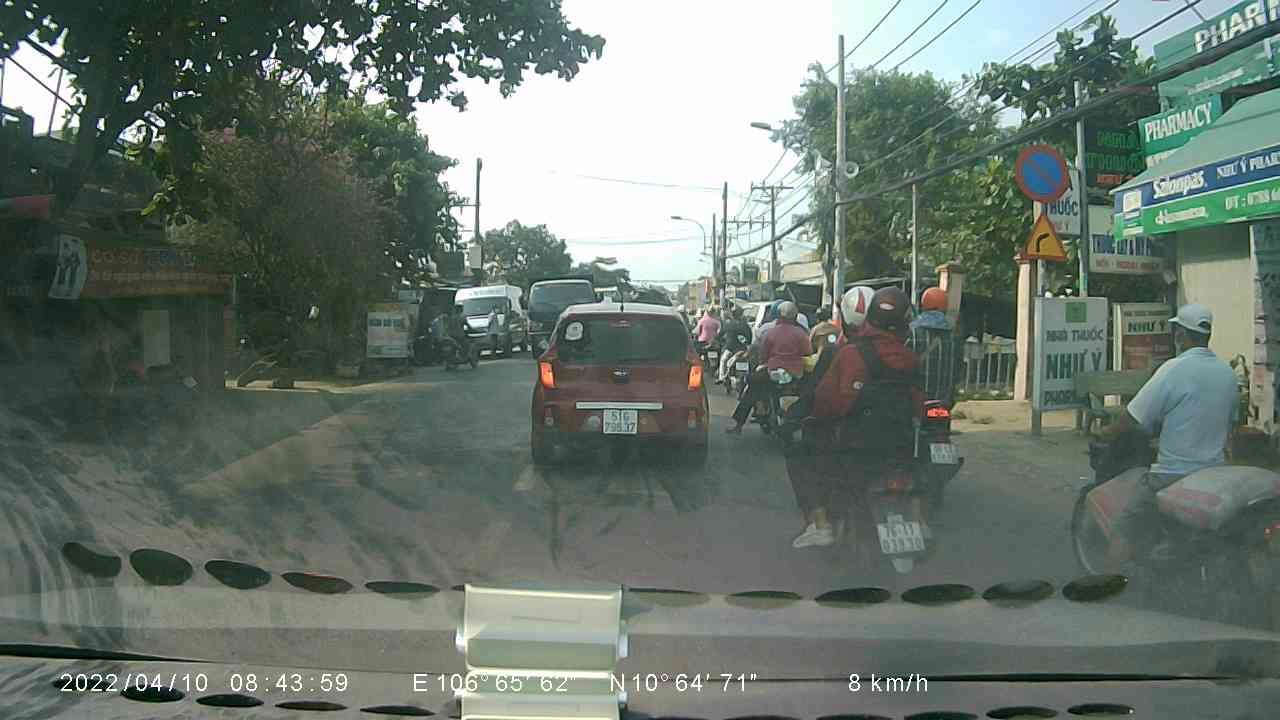Bien khac: (1016, 206, 1072, 263)
Cam do xe: (1010, 137, 1070, 207)
